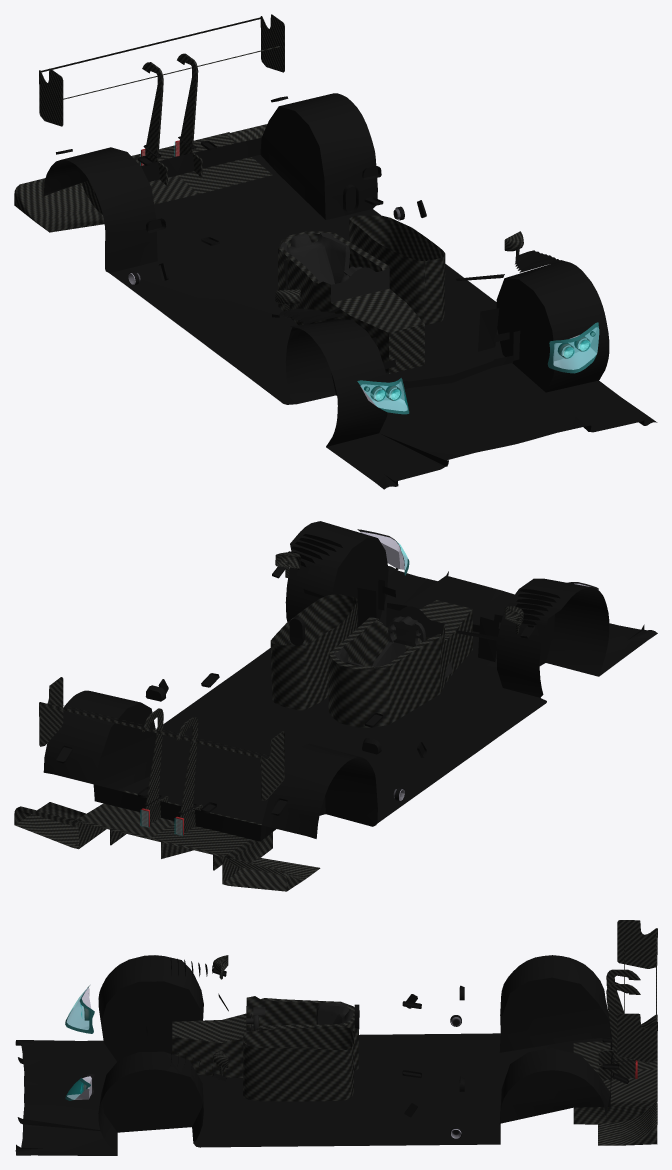
File: AcuraARX.FBX
3 views of the same model, one above another, from view 1: azimuth 30°, elevation 25°; view 2: azimuth 150°, elevation 25°; view 3: azimuth 270°, elevation 25° (orthographic). The views are drawn at different scales.
Visible parts, largest first — view 1: body, sp; view 2: body, sp; view 3: body, sp.
Part boxes in pixels (bbox=[...]): body: bbox=[14, 93, 657, 489]; sp: bbox=[39, 14, 284, 185]; body: bbox=[14, 521, 657, 891]; sp: bbox=[39, 677, 284, 832]; body: bbox=[15, 955, 657, 1155]; sp: bbox=[598, 920, 657, 1080].
Size of the model in its own units: 199 by 105 by 465.
2 materials, 1 textured.
